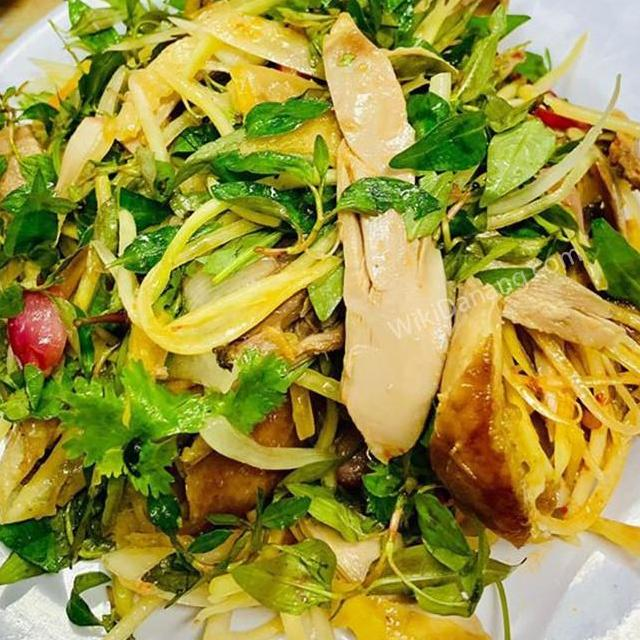rau ram: (224, 450, 526, 631), (202, 130, 444, 276), (47, 0, 282, 129), (276, 0, 560, 98), (378, 81, 560, 214), (0, 70, 69, 374), (0, 461, 118, 633), (563, 217, 640, 361)
thit ga: (310, 7, 460, 471), (424, 271, 568, 554), (168, 279, 320, 541), (282, 507, 544, 640), (168, 56, 350, 200), (491, 255, 640, 401), (0, 392, 99, 530)
